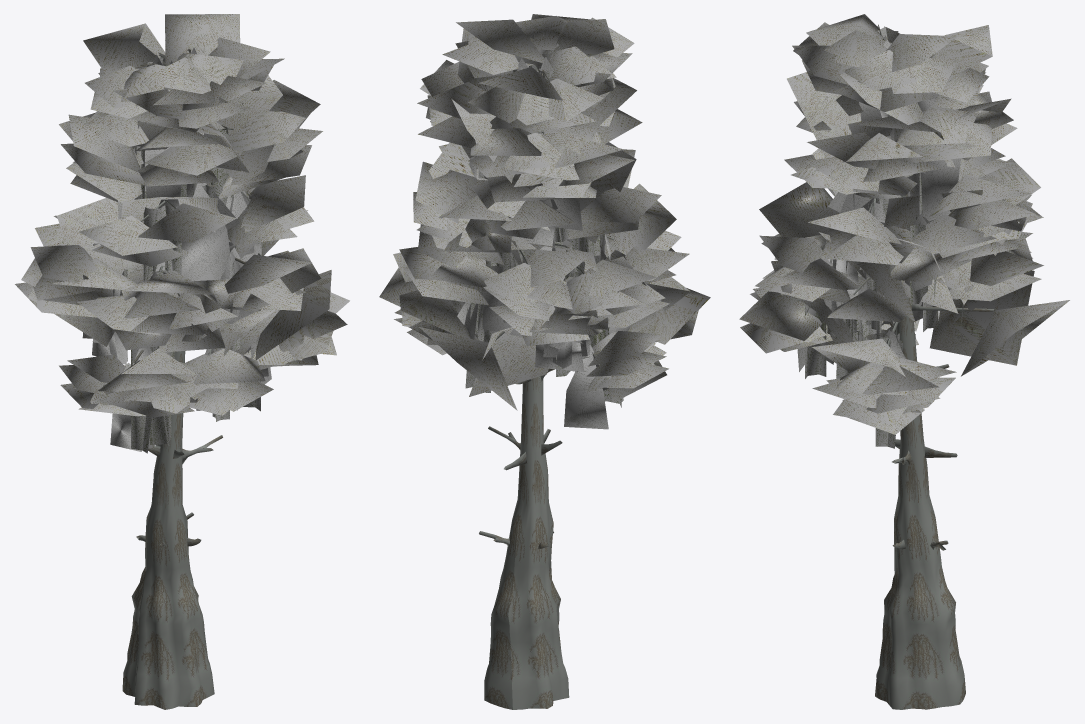
The model's file is flora_bc_tree_02.obj.
3 renders of one model, left to right at view 1: azimuth 30°, elevation 25°; view 2: azimuth 150°, elevation 25°; view 3: azimuth 270°, elevation 25°, orthographic.
Parts seen in each view (by area): view 1: nifid_22-matrix_Tri_None_BaldCypressN_001_0-lib, nifid_8-matrix_Tri_None_BaldCypressN_0-lib, nifid_1-matrix_None_BaldCypressN_002_3-lib, nifid_26-matrix_Tri_None_BaldCypressN_001_2-lib, nifid_24-matrix_Tri_None_BaldCypressN_001_1-lib, nifid_17-matrix_Tri_None_BaldCypressN_2-lib, nifid_13-matrix_Tri_None_BaldCypressN_1-lib; view 2: nifid_22-matrix_Tri_None_BaldCypressN_001_0-lib, nifid_8-matrix_Tri_None_BaldCypressN_0-lib, nifid_1-matrix_None_BaldCypressN_002_3-lib, nifid_26-matrix_Tri_None_BaldCypressN_001_2-lib, nifid_24-matrix_Tri_None_BaldCypressN_001_1-lib, nifid_17-matrix_Tri_None_BaldCypressN_2-lib, nifid_13-matrix_Tri_None_BaldCypressN_1-lib; view 3: nifid_22-matrix_Tri_None_BaldCypressN_001_0-lib, nifid_8-matrix_Tri_None_BaldCypressN_0-lib, nifid_1-matrix_None_BaldCypressN_002_3-lib, nifid_26-matrix_Tri_None_BaldCypressN_001_2-lib, nifid_24-matrix_Tri_None_BaldCypressN_001_1-lib, nifid_17-matrix_Tri_None_BaldCypressN_2-lib, nifid_13-matrix_Tri_None_BaldCypressN_1-lib.
Part boxes in pixels (left/top/right/bottom): nifid_22-matrix_Tri_None_BaldCypressN_001_0-lib: left=15, top=14, right=349, bottom=417; nifid_8-matrix_Tri_None_BaldCypressN_0-lib: left=17, top=14, right=344, bottom=416; nifid_1-matrix_None_BaldCypressN_002_3-lib: left=122, top=49, right=264, bottom=709; nifid_26-matrix_Tri_None_BaldCypressN_001_2-lib: left=92, top=47, right=271, bottom=451; nifid_24-matrix_Tri_None_BaldCypressN_001_1-lib: left=93, top=55, right=268, bottom=453; nifid_17-matrix_Tri_None_BaldCypressN_2-lib: left=92, top=51, right=271, bottom=448; nifid_13-matrix_Tri_None_BaldCypressN_1-lib: left=124, top=63, right=260, bottom=450; nifid_22-matrix_Tri_None_BaldCypressN_001_0-lib: left=379, top=14, right=710, bottom=410; nifid_8-matrix_Tri_None_BaldCypressN_0-lib: left=380, top=15, right=707, bottom=408; nifid_1-matrix_None_BaldCypressN_002_3-lib: left=479, top=38, right=614, bottom=709; nifid_26-matrix_Tri_None_BaldCypressN_001_2-lib: left=457, top=31, right=639, bottom=429; nifid_24-matrix_Tri_None_BaldCypressN_001_1-lib: left=465, top=50, right=623, bottom=407; nifid_17-matrix_Tri_None_BaldCypressN_2-lib: left=458, top=32, right=629, bottom=428; nifid_13-matrix_Tri_None_BaldCypressN_1-lib: left=466, top=51, right=621, bottom=404; nifid_22-matrix_Tri_None_BaldCypressN_001_0-lib: left=739, top=14, right=1069, bottom=434; nifid_8-matrix_Tri_None_BaldCypressN_0-lib: left=740, top=15, right=1066, bottom=434; nifid_1-matrix_None_BaldCypressN_002_3-lib: left=796, top=24, right=993, bottom=709; nifid_26-matrix_Tri_None_BaldCypressN_001_2-lib: left=797, top=35, right=963, bottom=371; nifid_24-matrix_Tri_None_BaldCypressN_001_1-lib: left=805, top=102, right=958, bottom=448; nifid_17-matrix_Tri_None_BaldCypressN_2-lib: left=798, top=36, right=962, bottom=371; nifid_13-matrix_Tri_None_BaldCypressN_1-lib: left=805, top=178, right=949, bottom=447.
Size of the model in its own units: 26.46 by 57.79 by 25.88.
